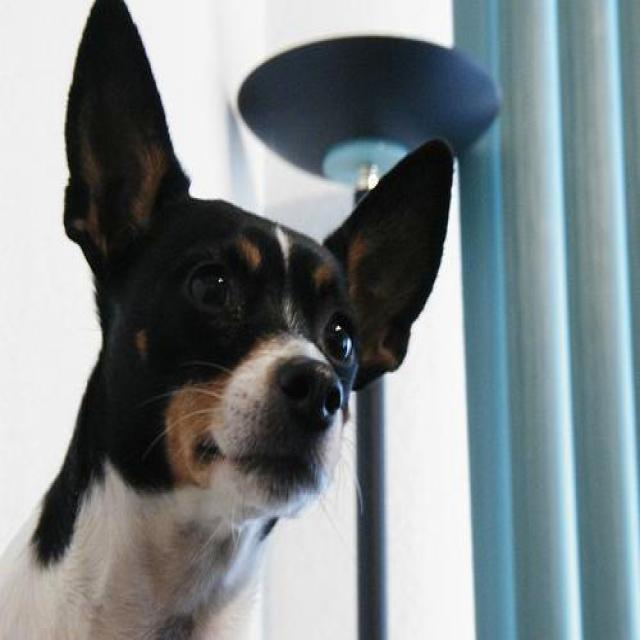toy_terrier: (0, 2, 458, 638)
